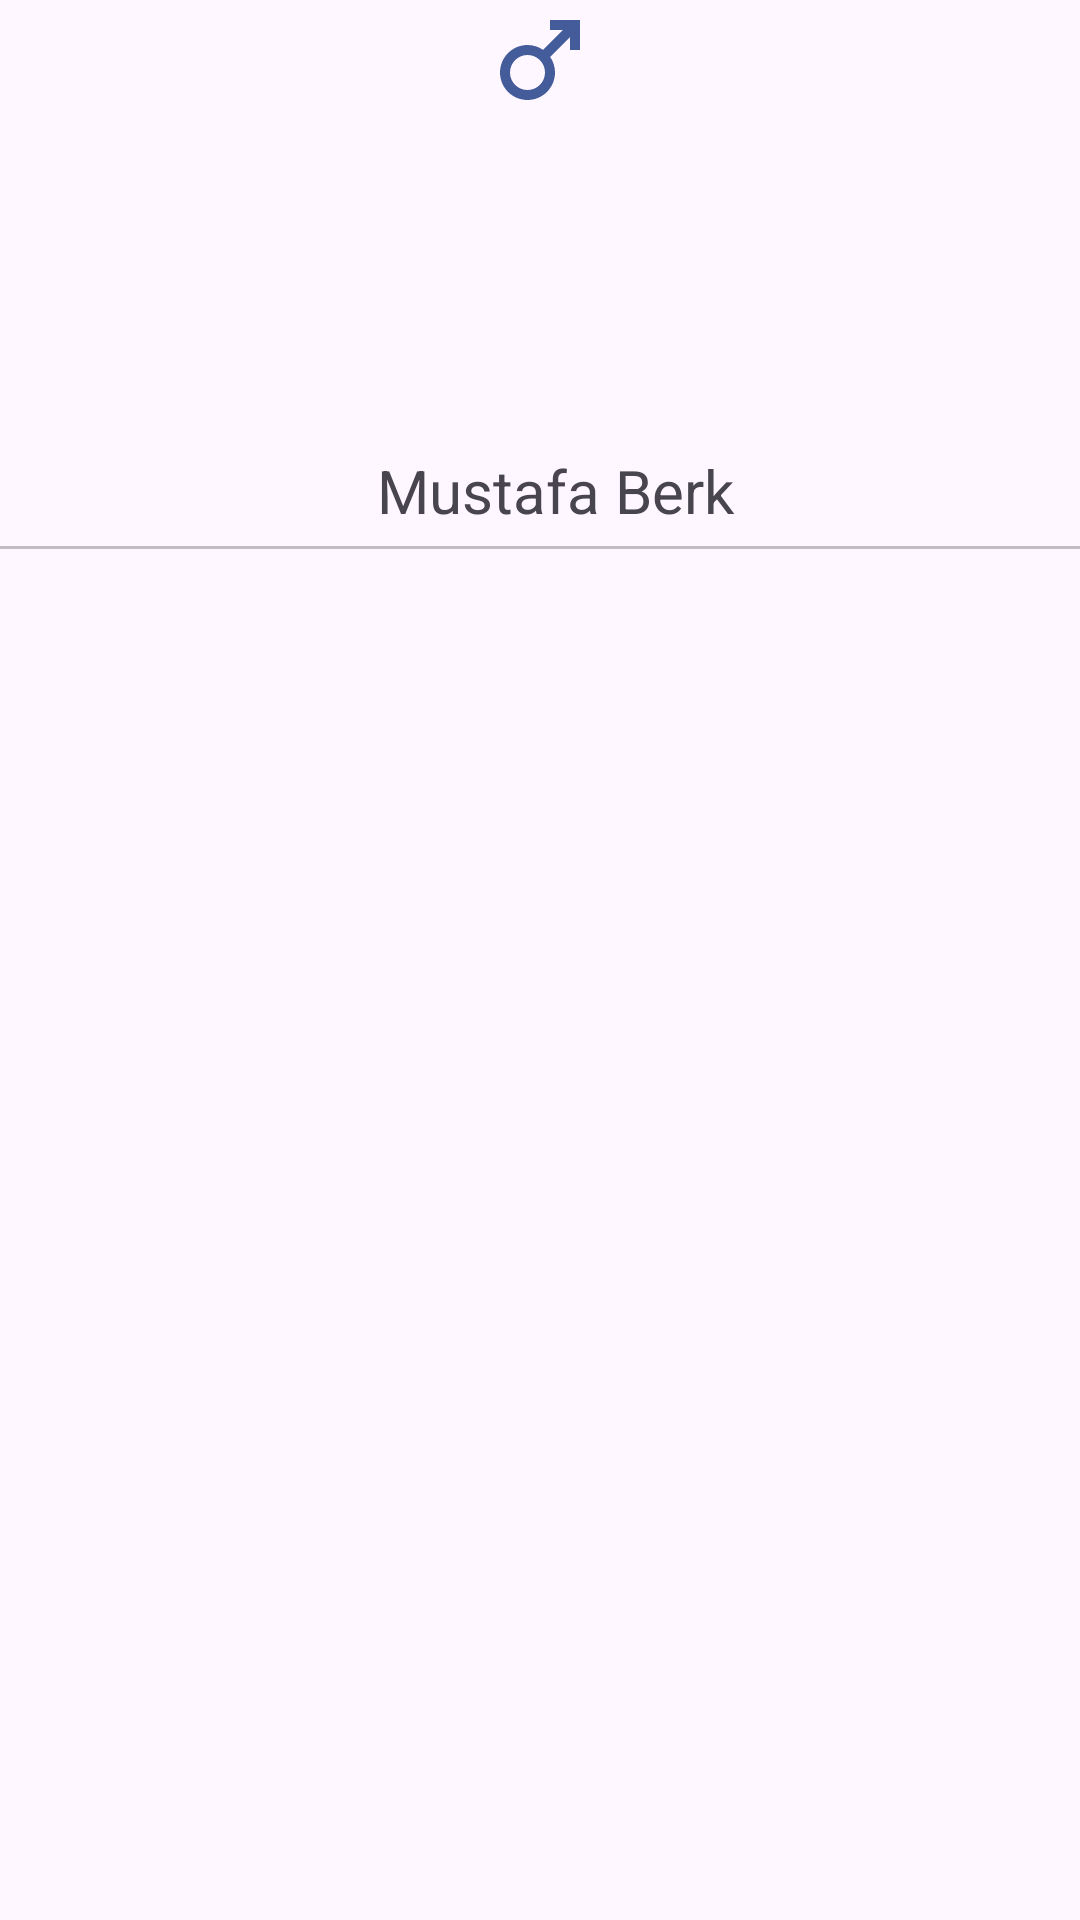

Icon bounding boxes for this 1080px×1920px phone screenshot, format bbox(x1, y1, x2, y2):
male: bbox(500, 20, 580, 100)
